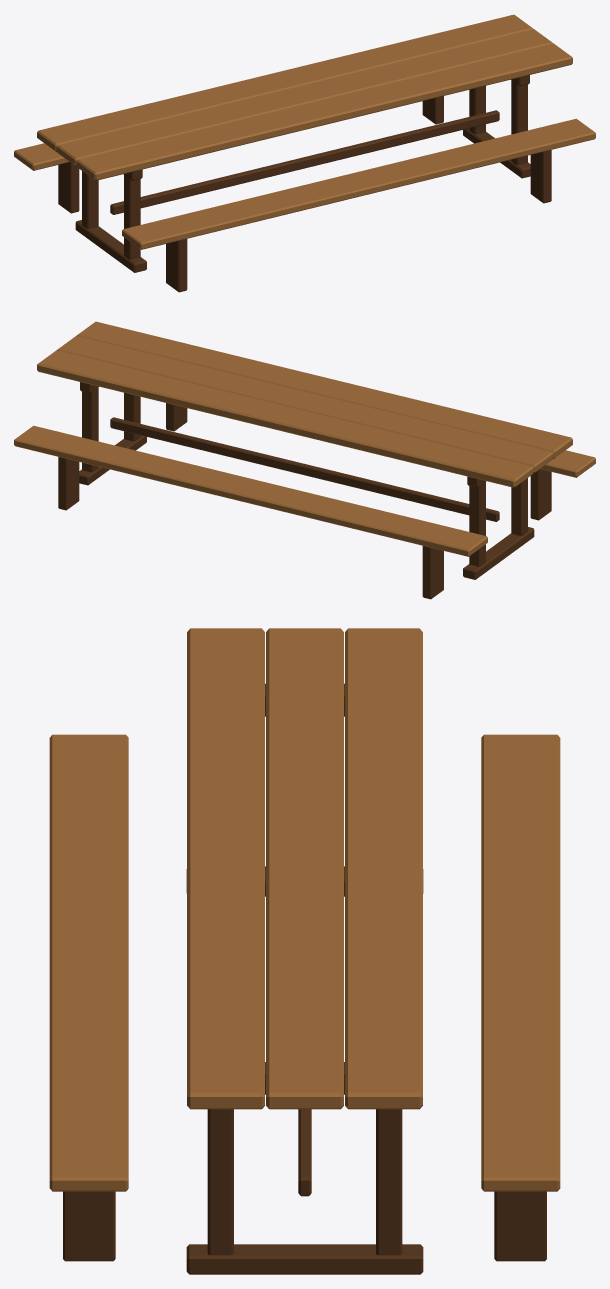
Rendered from table.glb.
The picture shows the model from 3 angles, top to bottom: view 1: azimuth 30°, elevation 25°; view 2: azimuth 150°, elevation 25°; view 3: azimuth 270°, elevation 25°; orthographic projection. The views are drawn at different scales.
Visible parts, largest first — view 1: table_mesh; view 2: table_mesh; view 3: table_mesh.
Boxes of the visible parts, bbox=[...] form: table_mesh: bbox=[14, 14, 595, 292]; table_mesh: bbox=[14, 321, 595, 599]; table_mesh: bbox=[49, 628, 560, 1274].
Size of the model in its own units: 4.2 by 0.92 by 1.94.
